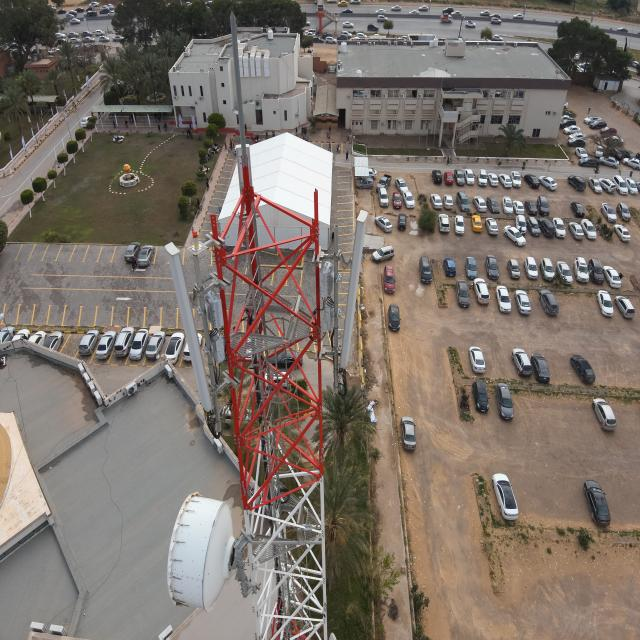Ground Based: (171, 9, 342, 640)
